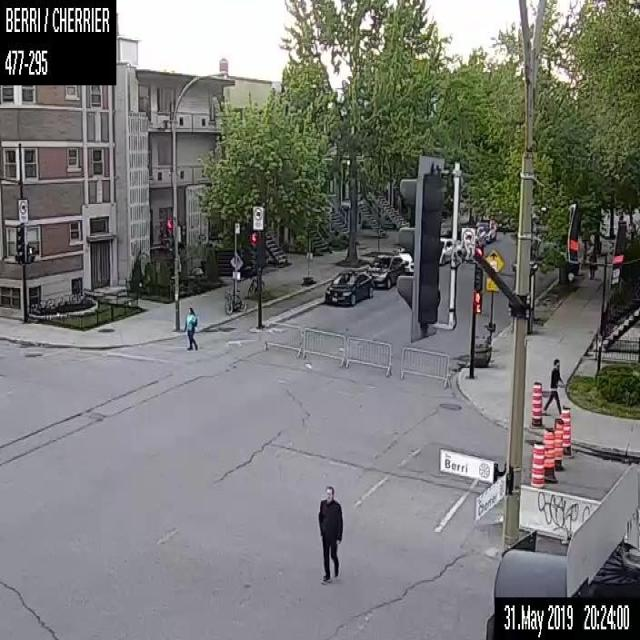construction: (530, 443, 544, 487), (531, 379, 541, 428), (544, 426, 554, 474), (554, 416, 562, 469), (562, 407, 570, 455)
pedestrian: (316, 485, 342, 583), (541, 356, 562, 412), (184, 305, 197, 351), (586, 239, 596, 278)
vehicle: (324, 268, 373, 306), (366, 254, 403, 289), (476, 219, 495, 241), (438, 237, 452, 266), (398, 247, 413, 271), (472, 225, 485, 245)
